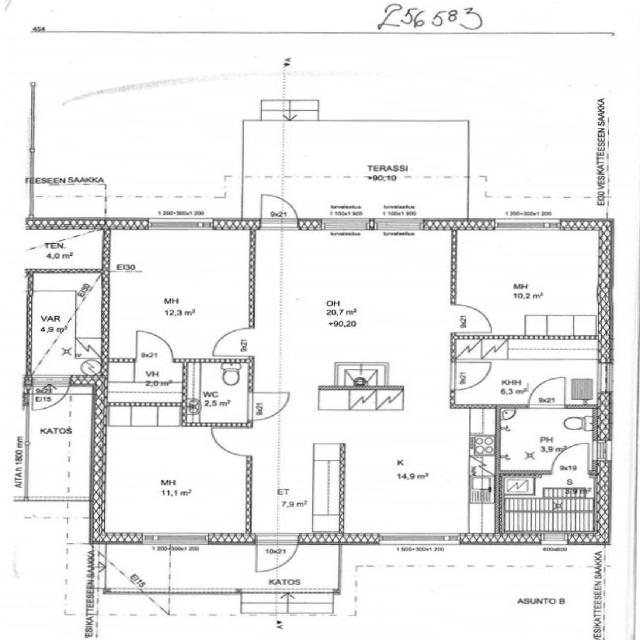door: (252, 531, 301, 575), (228, 396, 284, 433), (130, 326, 178, 363), (244, 388, 294, 423), (256, 191, 301, 228), (525, 374, 569, 410), (208, 324, 251, 359), (450, 358, 494, 392), (547, 441, 592, 474), (207, 424, 250, 458), (451, 302, 496, 334), (28, 380, 70, 412)
window: (374, 531, 462, 549), (138, 530, 210, 548), (146, 218, 216, 234), (492, 218, 560, 234), (595, 358, 616, 398), (371, 218, 426, 233), (317, 219, 373, 233), (17, 404, 34, 447), (592, 438, 612, 462)
zone: (252, 396, 494, 539), (252, 231, 449, 395), (100, 407, 250, 542), (101, 225, 252, 358), (453, 228, 606, 334), (29, 385, 98, 498), (30, 272, 101, 380), (498, 471, 601, 540), (495, 406, 600, 473), (184, 358, 252, 428), (103, 362, 188, 408)
